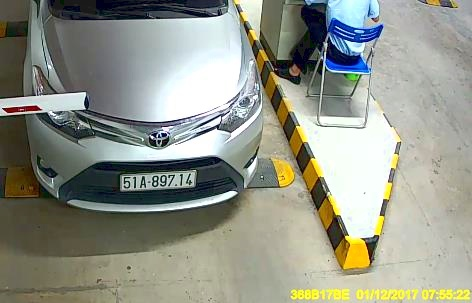plate: (116, 167, 197, 191)
